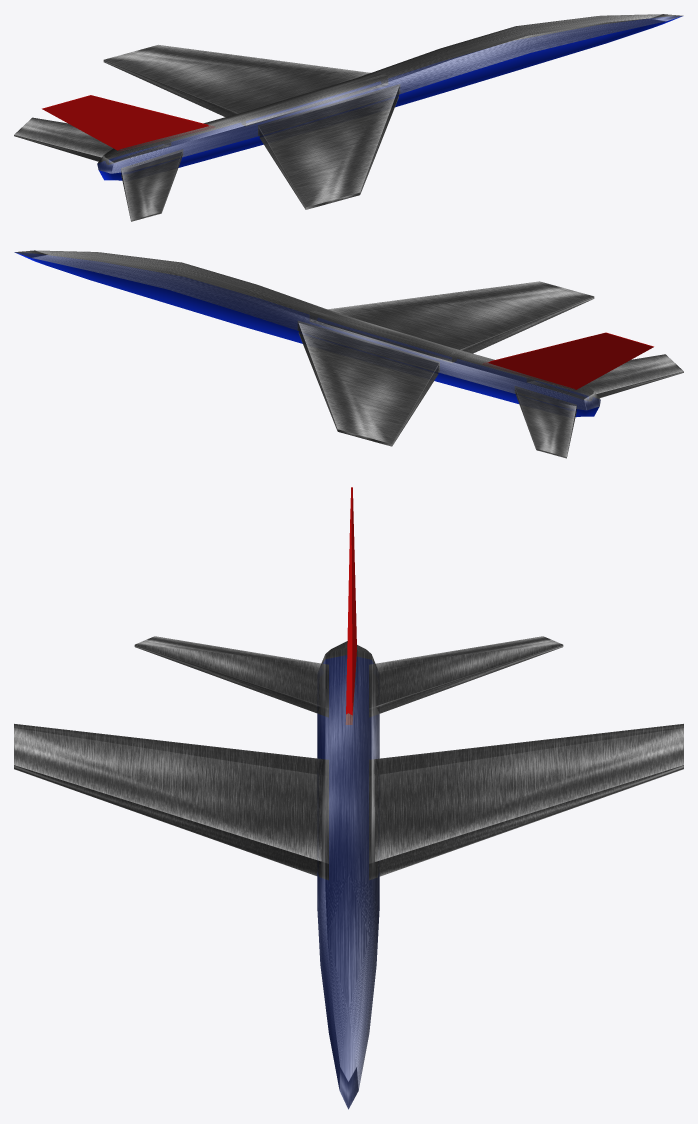
3 renders of one model, top to bottom at view 1: azimuth 30°, elevation 25°; view 2: azimuth 150°, elevation 25°; view 3: azimuth 270°, elevation 25°, orthographic. The views are drawn at different scales.
Parts seen in each view (by area): view 1: Box001; view 2: Box001; view 3: Box001.
Part boxes in pixels (left/top/right/bottom): Box001: left=14, top=14, right=683, bottom=221; Box001: left=14, top=250, right=683, bottom=458; Box001: left=14, top=487, right=683, bottom=1109.
Bounding box in the file's own units: 77.91 × 10.63 × 42.51.
3 materials, 1 textured.
